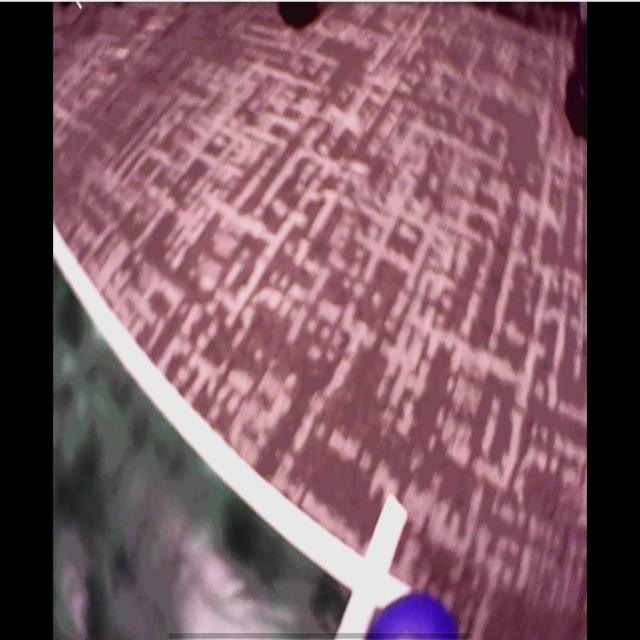ball: (372, 593, 460, 640)
